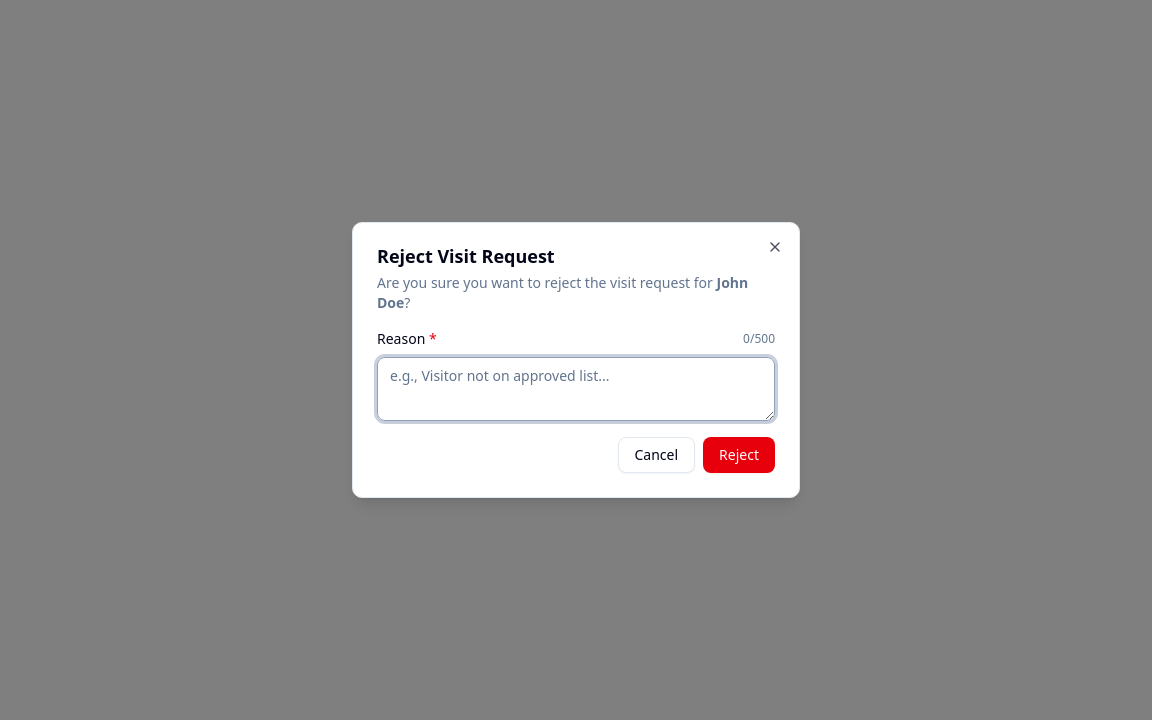
Test: RejectVisitDialog › Validation › should clear error when user types valid input
Note: First, trigger error
Type "No" into the text box at (576, 389), box [377,357,775,421]
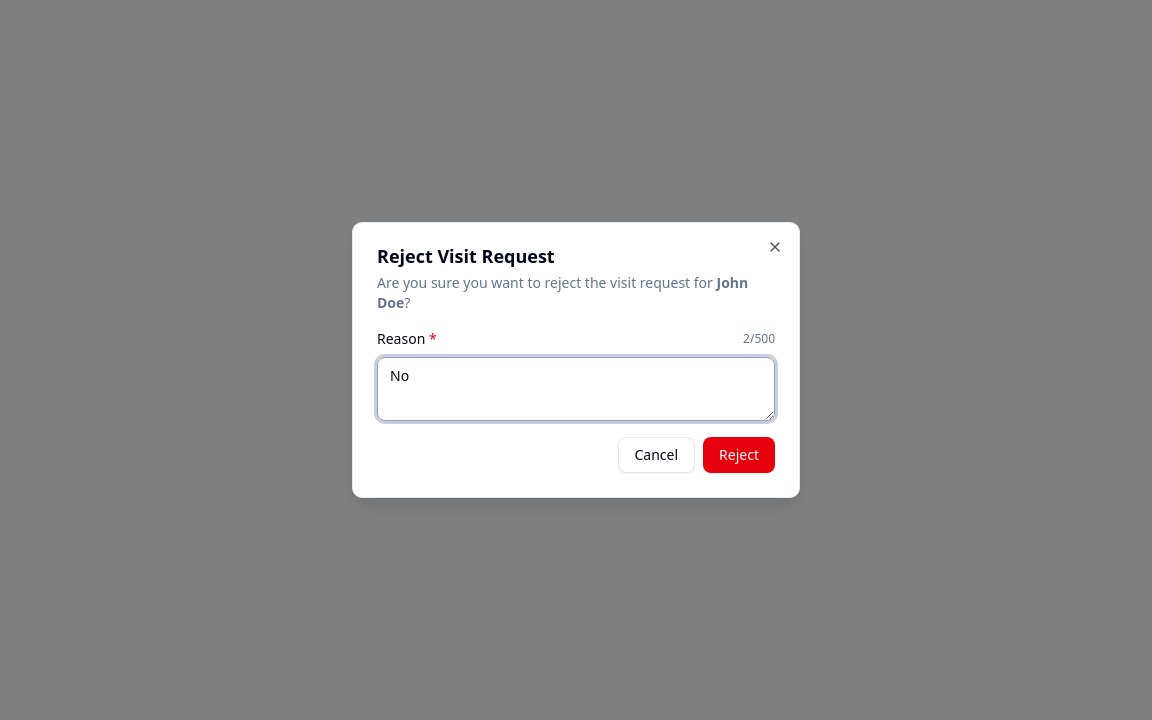
Click the button "Reject" at (739, 455), box [703,437,775,473]
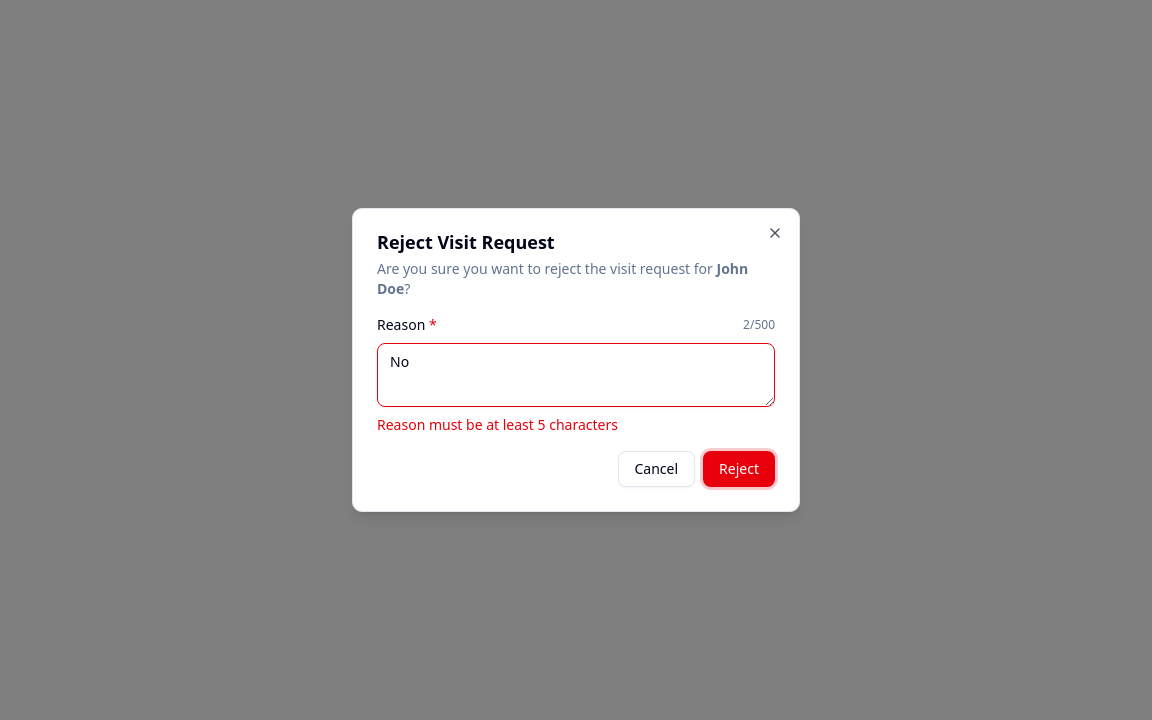
Expected: the text "Reason must be at least 5 characters" is shown, [377,415,618,434]
Note: Now type valid input
Replace the text in the text box with "Valid reason now" at (576, 375), box [377,343,775,407]
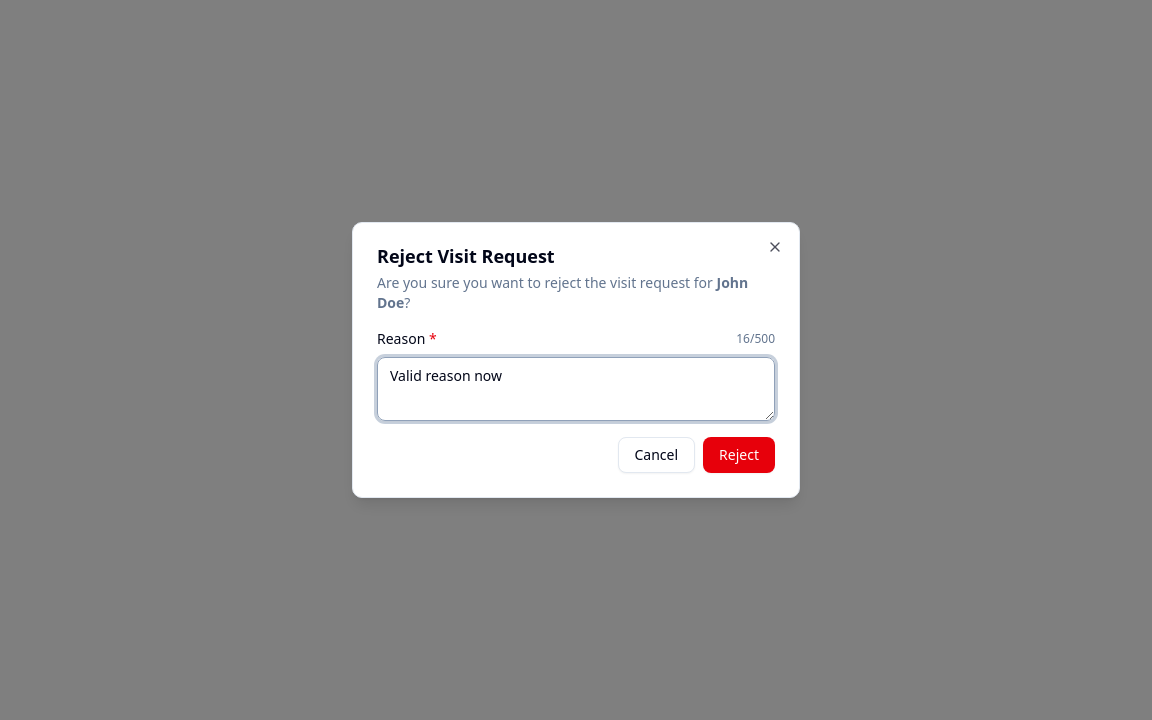
Expected: the text "Reason must be at least 5 characters" is gone
